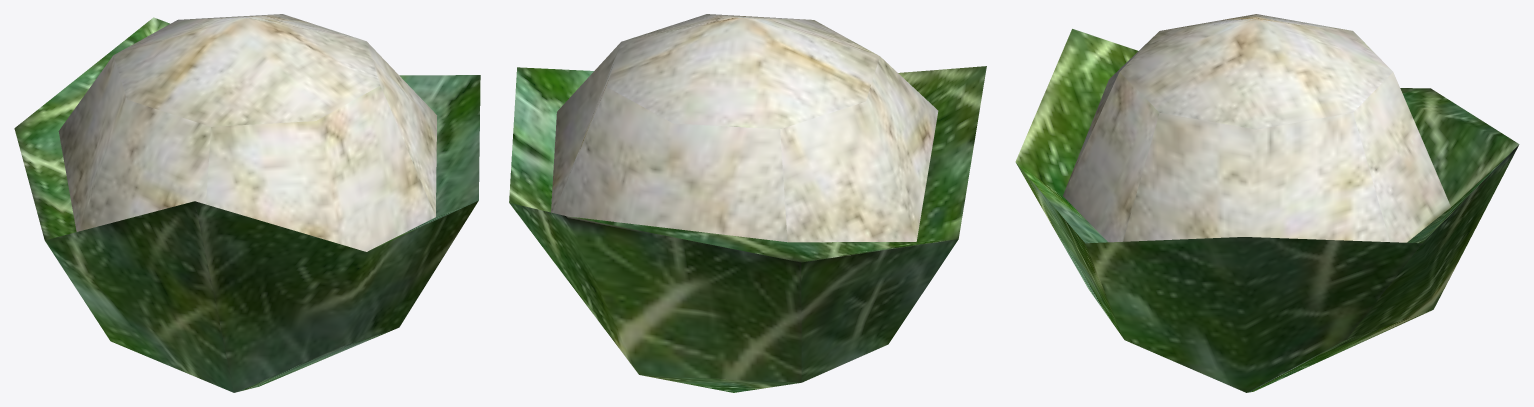
File: Cauliflower.glb
The picture shows the model from 3 angles, left to right: view 1: azimuth 30°, elevation 25°; view 2: azimuth 150°, elevation 25°; view 3: azimuth 270°, elevation 25°; orthographic projection. The views are drawn at different scales.
Parts seen in each view (by area): view 1: Cauliflower; view 2: Cauliflower; view 3: Cauliflower.
Boxes of the visible parts, <box> form: Cauliflower: <box>14,14,480,392</box>; Cauliflower: <box>509,14,986,392</box>; Cauliflower: <box>1015,14,1519,392</box>.
Size of the model in its own units: 0.365 by 0.2972 by 0.371.
Materials: 1 (1 with a texture image).
